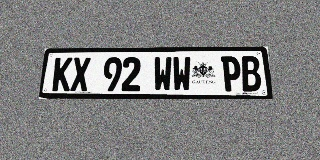2: (121, 57, 141, 91)
9: (103, 57, 122, 91)
B: (240, 56, 262, 91)
K: (52, 57, 73, 91)
P: (221, 56, 242, 91)
W: (153, 57, 172, 91), (172, 57, 191, 91)
X: (70, 57, 91, 91)
